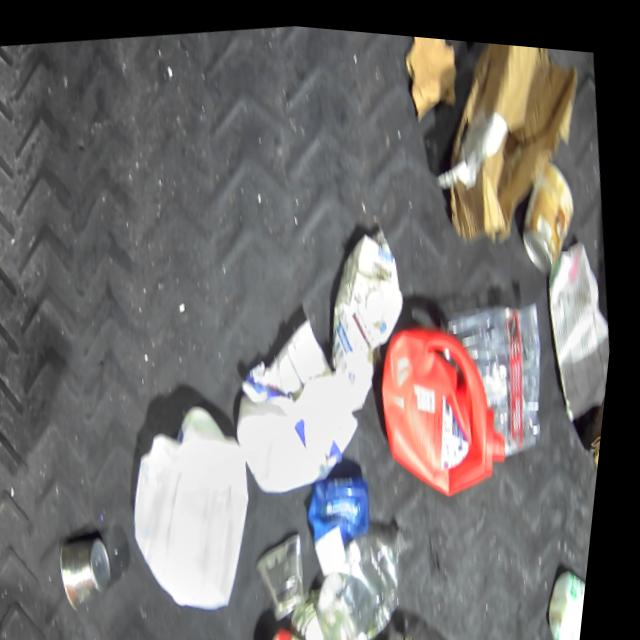can: (510, 144, 592, 273), (258, 522, 327, 620), (63, 528, 133, 614), (267, 611, 337, 640), (197, 635, 241, 640)
milk_jug: (119, 390, 285, 621), (235, 379, 338, 497)
non_white_jug: (371, 305, 532, 502)
plastic_bottle: (314, 512, 438, 640)
